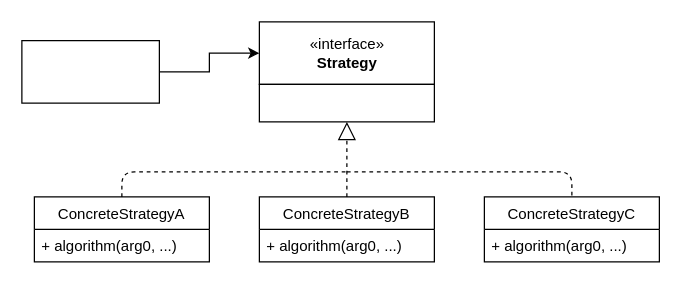
This 681x288 diagram has some shape labels left out. Each missing label, with the box of its shape:
algorithm(arg0, ...): (258, 83, 434, 122)
Context: (21, 39, 159, 103)
